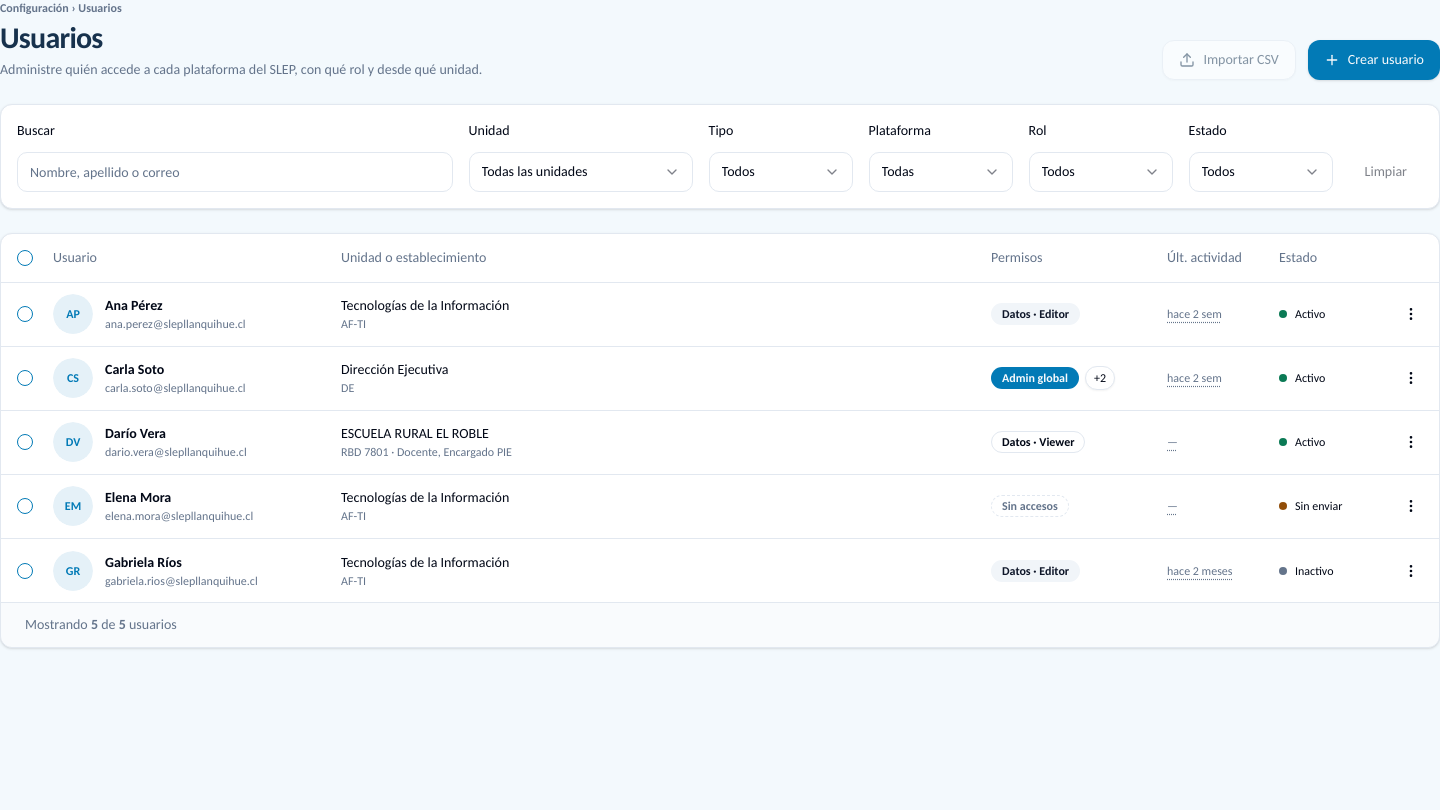
Test: FE12: diálogo de accesos › FE12-J: un 409 (último admin global) se muestra dentro del diálogo y no lo cierra
Check: the text "Carla Soto" is shown, box [105,361,164,378]
Click the button named "Acciones de Carla Soto".
click(1411, 378)  # box [1391,358,1431,398]
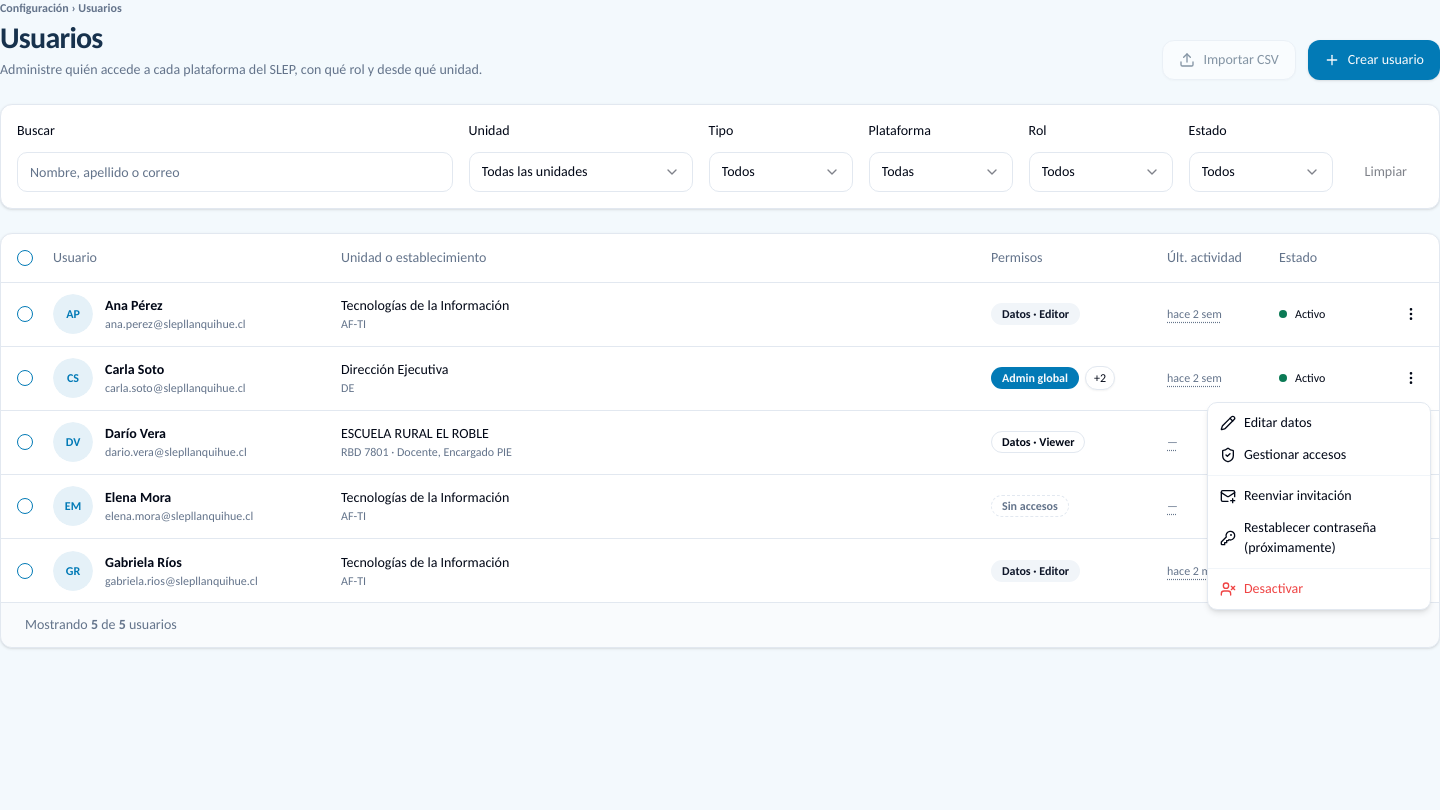
Click the menu item "Gestionar accesos".
click(1283, 454)  # box [1220,446,1346,463]
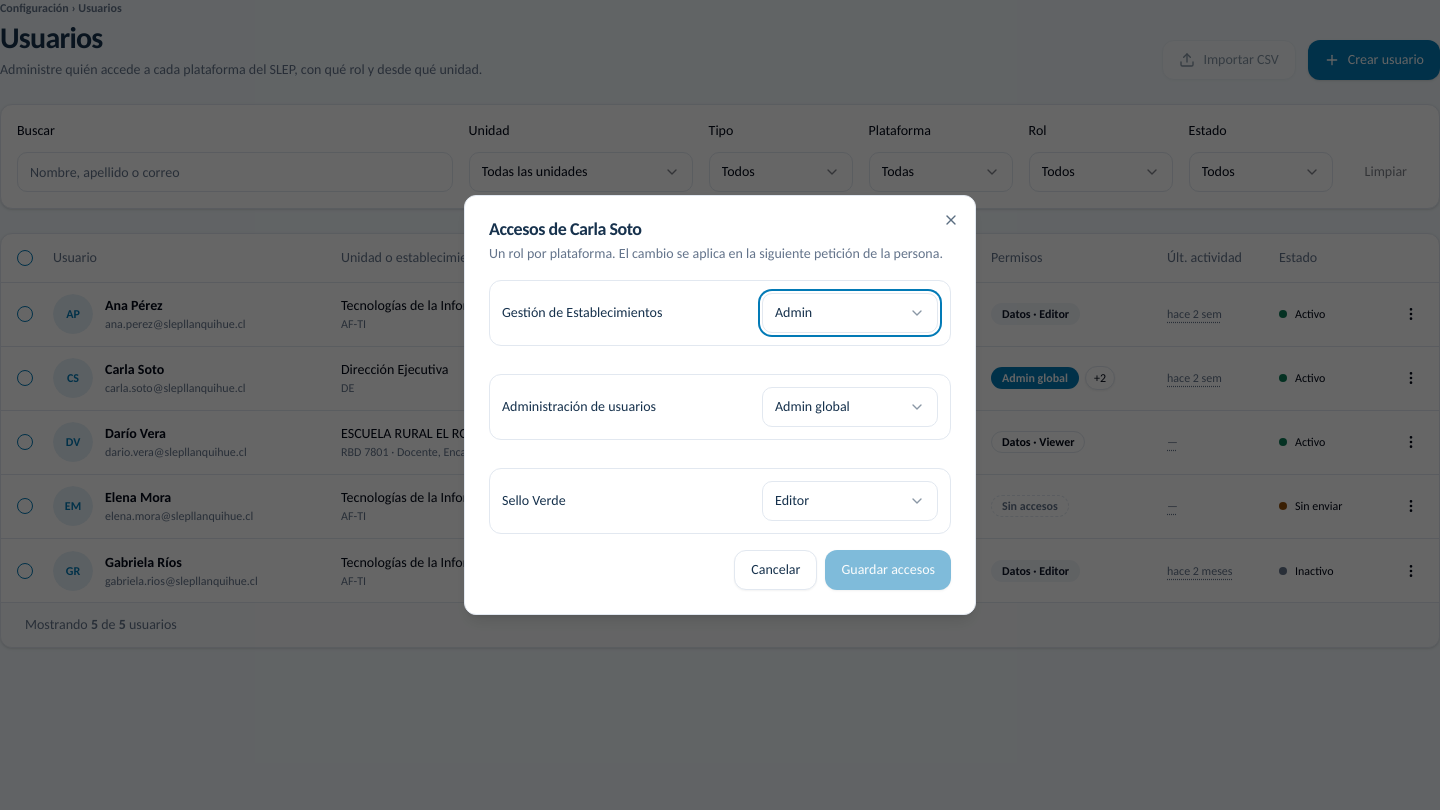
Click the dropdown named "Rol en Administración de usuarios".
click(850, 407)  # box [762,387,938,427]
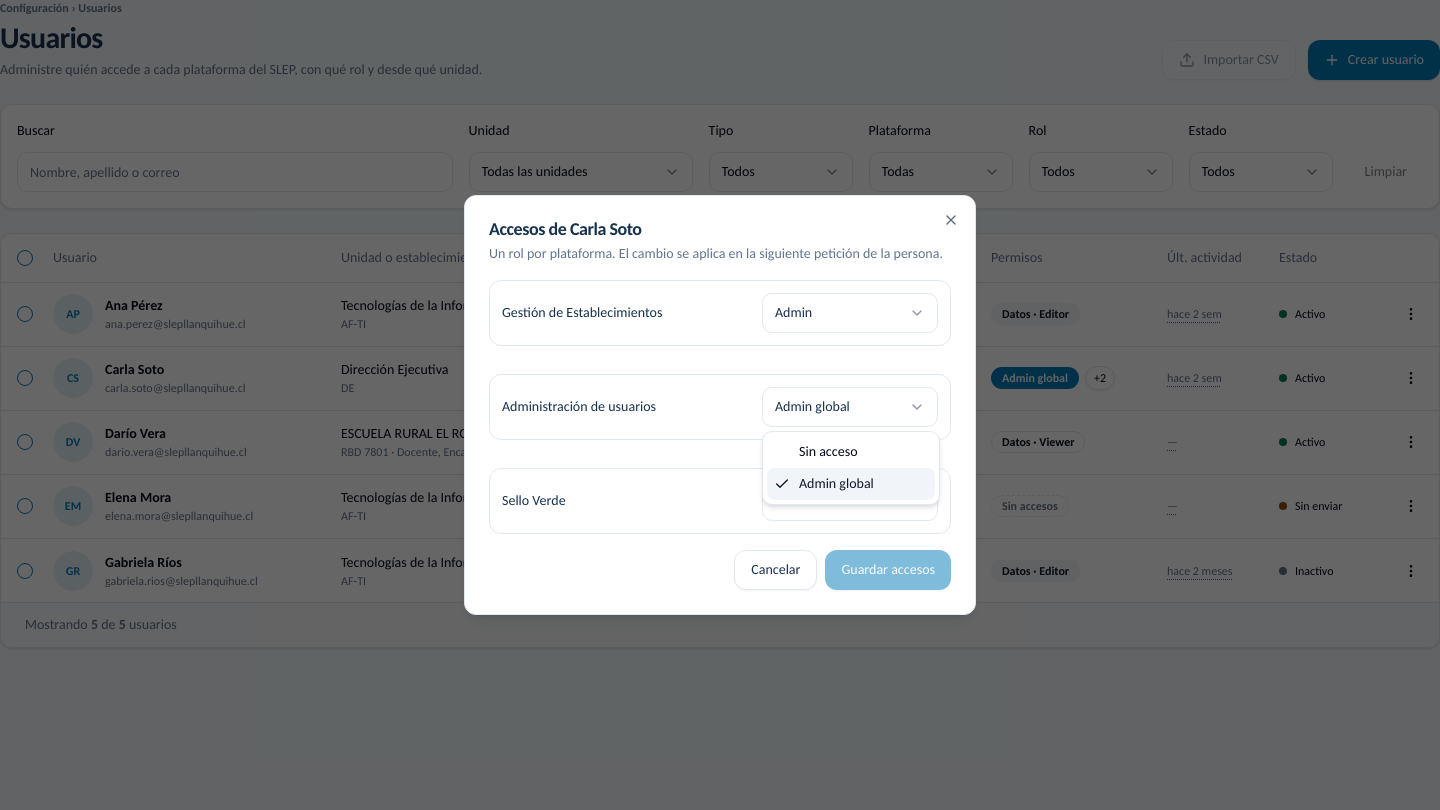
Click the option "Sin acceso".
click(828, 452)  # box [799,443,858,460]
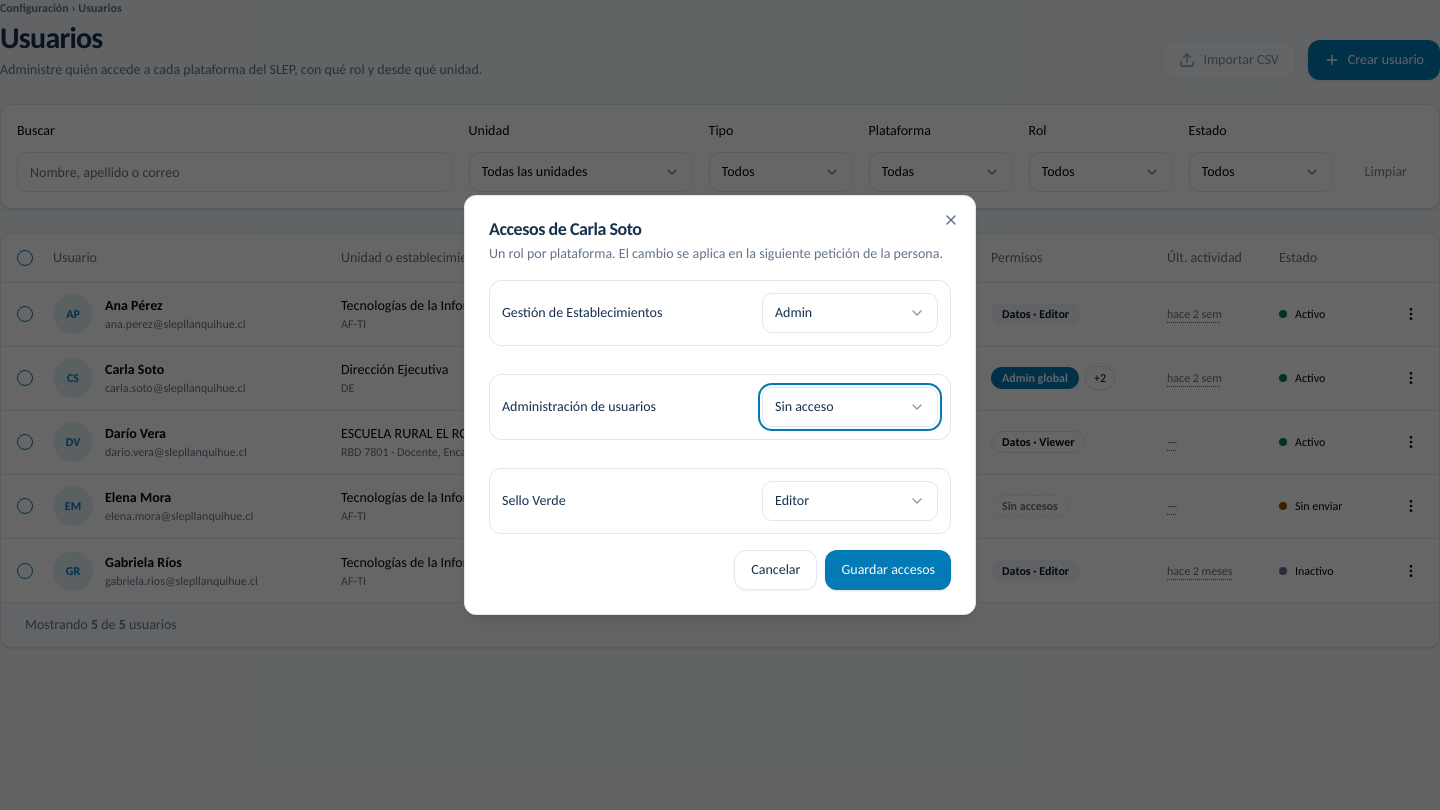
Click the button "Guardar accesos".
click(888, 570)  # box [826,550,951,590]
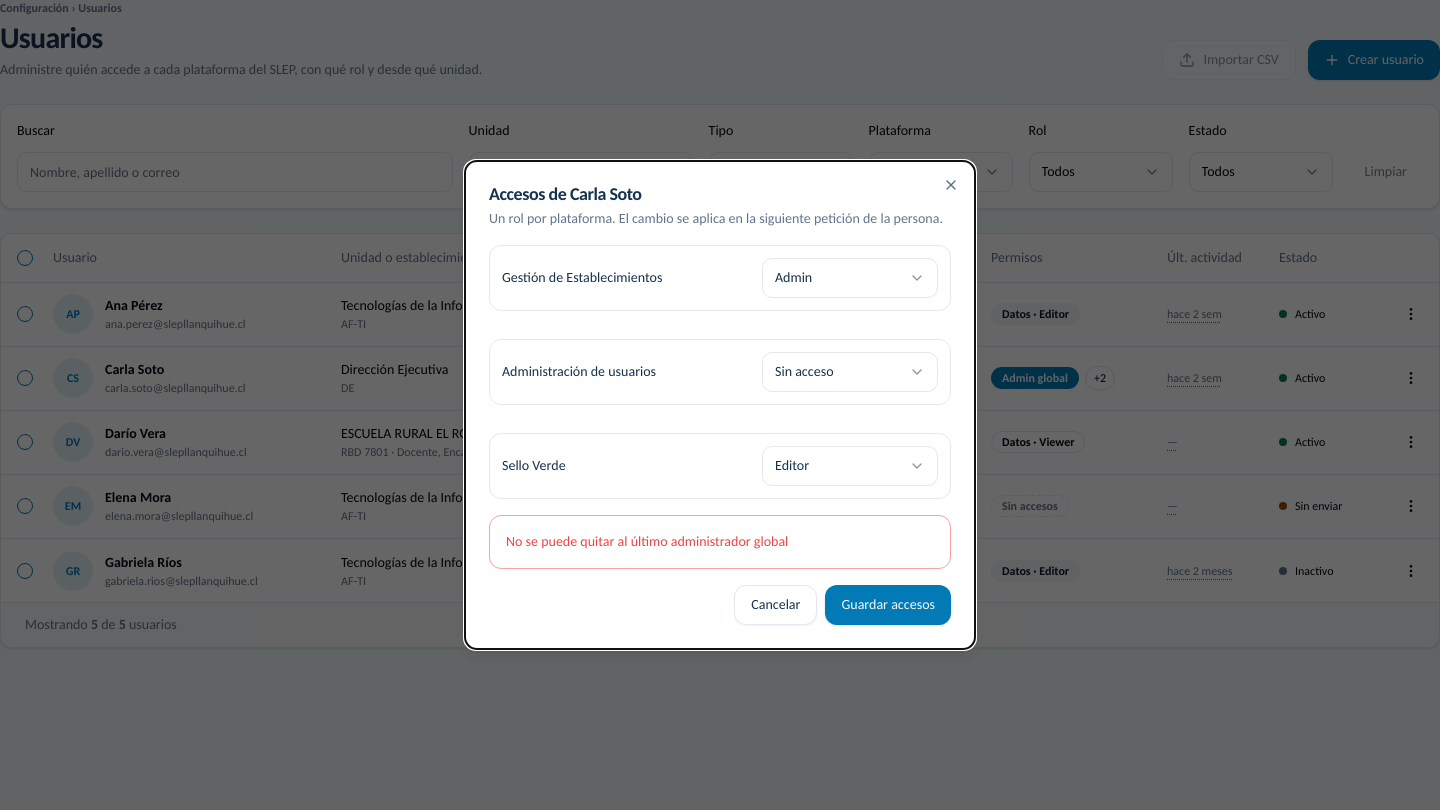
Check: the dialog "Accesos de Carla Soto" is shown, box [464,160,976,650]
Check: the message shows "último administrador global", box [506,533,788,550]
